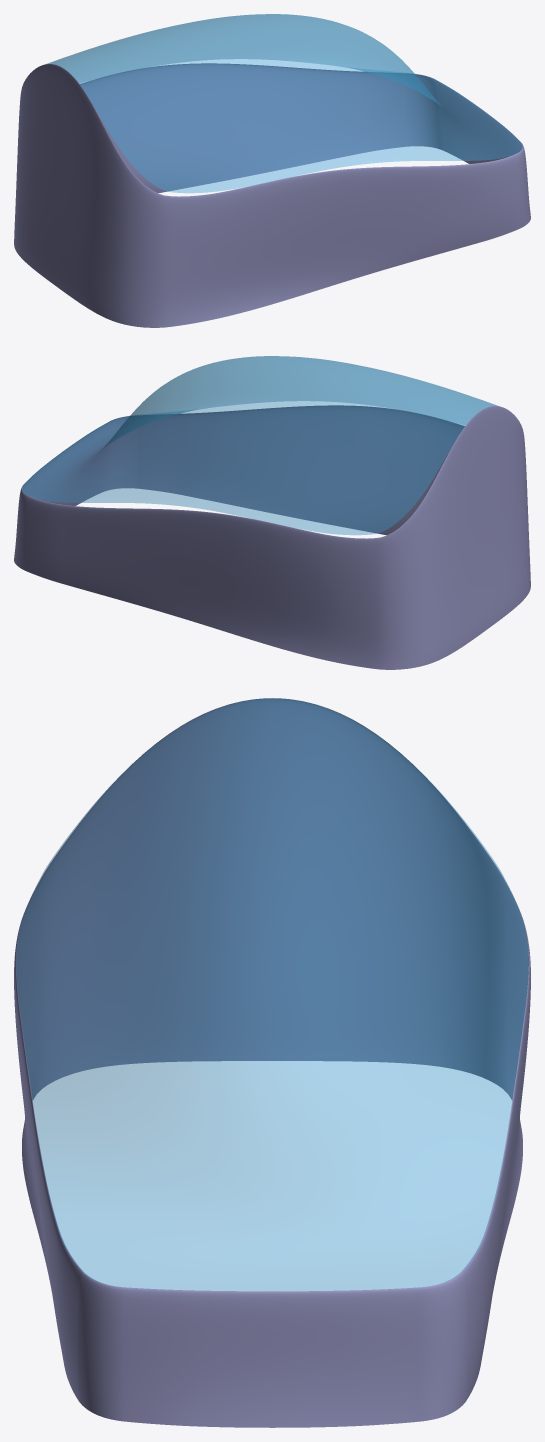
Rendered from PodlifeV3_Shell.dae.
The picture shows the model from 3 angles, top to bottom: view 1: azimuth 30°, elevation 25°; view 2: azimuth 150°, elevation 25°; view 3: azimuth 270°, elevation 25°; orthographic projection. The views are drawn at different scales.
Visible parts, largest first — view 1: Brep (×2); view 2: Brep (×2); view 3: Brep (×2).
Boxes of the visible parts, x1=… form: Brep (×2): x1=14, y1=14, x2=530, y2=327; Brep (×2): x1=14, y1=356, x2=530, y2=669; Brep (×2): x1=14, y1=698, x2=530, y2=1427.
Bounding box in the file's own units: 155 × 92.26 × 75.4.
